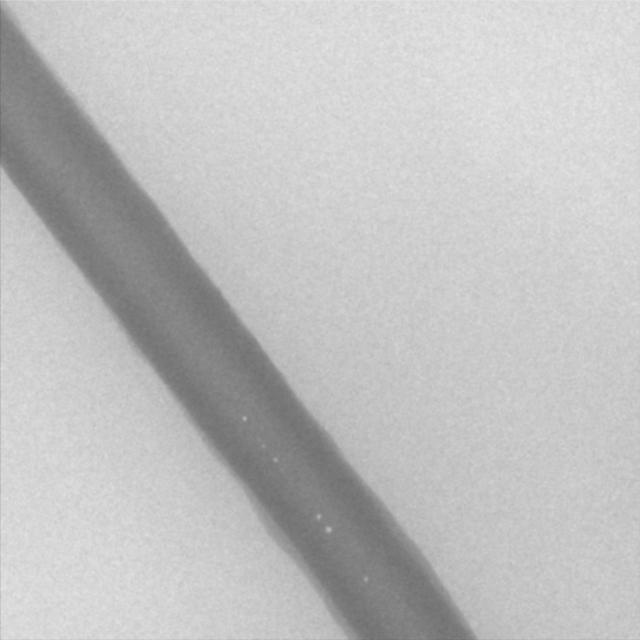air hole: (271, 454, 280, 466), (324, 524, 333, 535), (240, 412, 249, 423), (361, 574, 370, 584), (314, 511, 322, 521)
